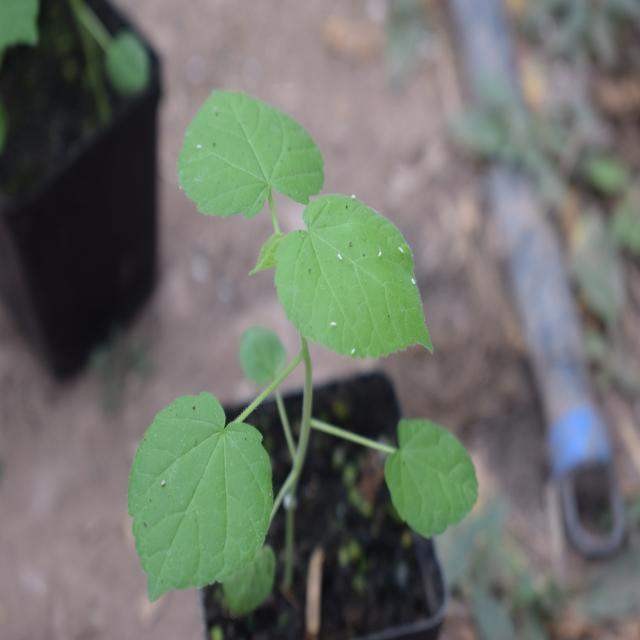abutilon theophrasti: (145, 82, 471, 594)
